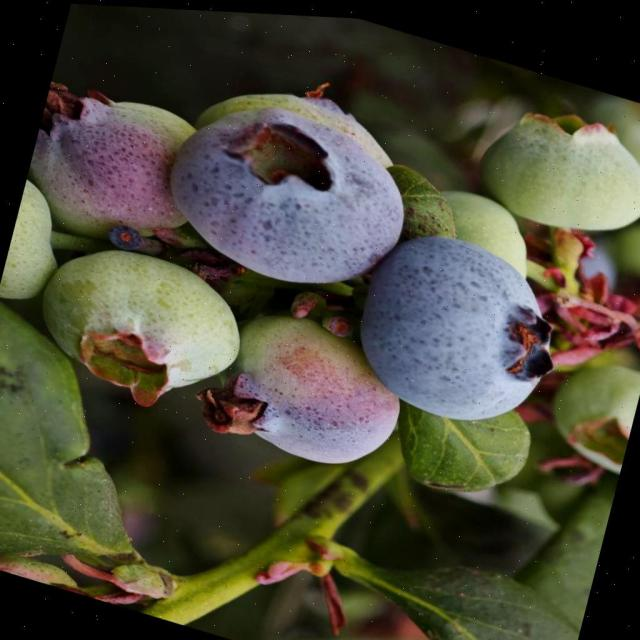RipeBlueBerry: (147, 72, 428, 312), (340, 208, 580, 443)
Semi-RipeBlueBerry: (212, 296, 420, 483)
UnripeBlueBerry: (21, 222, 259, 428)
